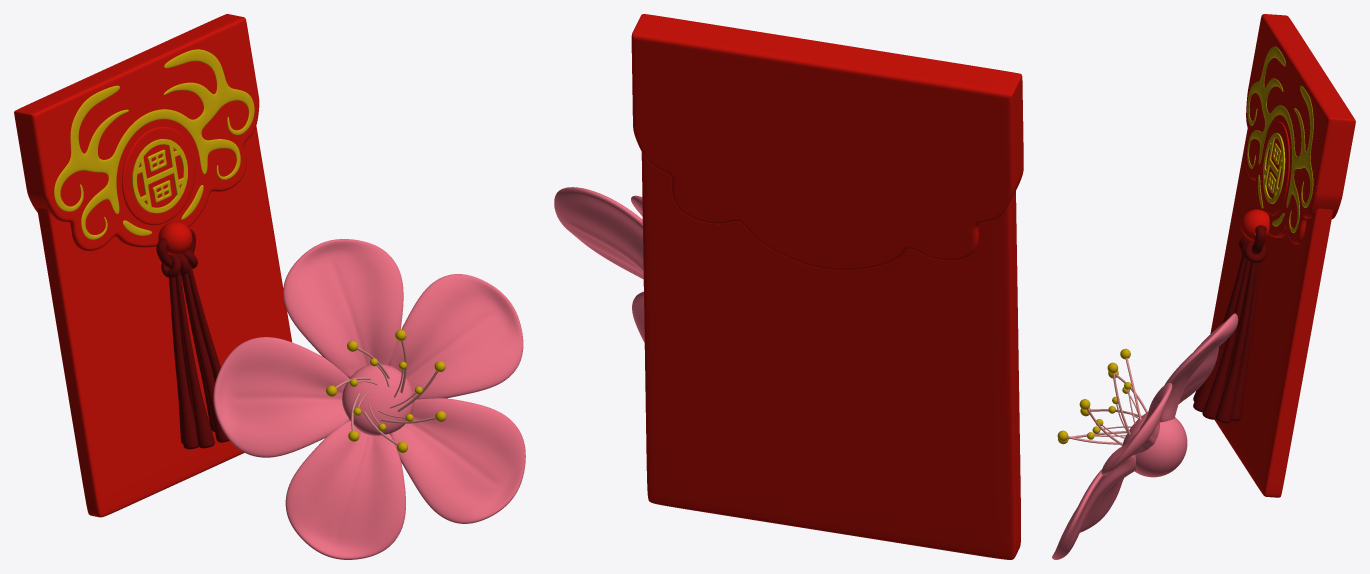
The model's file is lixi_phucloc.glb.
3 renders of one model, left to right at view 1: azimuth 30°, elevation 25°; view 2: azimuth 150°, elevation 25°; view 3: azimuth 270°, elevation 25°, orthographic. The views are drawn at different scales.
Visible parts, largest first — view 1: Red Envelope.071, Red Envelope.072, Cherry Blossoms.006, Cherry Blossoms.007, Cherry Blossoms.001, Cherry Blossoms.005, Cherry Blossoms.004, Red Envelope.073, Red Envelope.078, Red Envelope.075, Cherry Blossoms.008, Red Envelope.074 (+2 smaller); view 2: Red Envelope.071, Red Envelope.072, Cherry Blossoms.004; view 3: Red Envelope.071, Red Envelope.072, Red Envelope.078, Red Envelope.073, Cherry Blossoms.008, Cherry Blossoms.005, Cherry Blossoms.001, Cherry Blossoms.004, Red Envelope.075, Red Envelope.074, Cherry Blossoms.002, Cherry Blossoms.007 (+2 smaller).
Boxes of the visible parts, x1,y1,x2,y2 form: Red Envelope.071: [37, 126, 291, 517]; Red Envelope.072: [14, 14, 259, 250]; Cherry Blossoms.006: [285, 420, 405, 559]; Cherry Blossoms.007: [213, 337, 349, 457]; Cherry Blossoms.001: [283, 239, 403, 378]; Cherry Blossoms.005: [390, 398, 525, 523]; Cherry Blossoms.004: [389, 274, 523, 399]; Red Envelope.073: [54, 49, 254, 239]; Red Envelope.078: [161, 250, 229, 449]; Red Envelope.075: [122, 126, 195, 224]; Cherry Blossoms.008: [342, 364, 414, 435]; Red Envelope.074: [132, 139, 187, 213]; Red Envelope.071: [641, 152, 1020, 559]; Red Envelope.072: [631, 14, 1023, 270]; Cherry Blossoms.004: [554, 187, 643, 279]; Red Envelope.071: [1210, 129, 1332, 497]; Red Envelope.072: [1245, 14, 1355, 244]; Red Envelope.078: [1193, 236, 1266, 423]; Red Envelope.073: [1247, 46, 1313, 232]; Cherry Blossoms.008: [1122, 412, 1187, 477]; Cherry Blossoms.005: [1052, 455, 1135, 559]; Cherry Blossoms.001: [1160, 313, 1238, 422]; Cherry Blossoms.004: [1101, 383, 1172, 475]; Red Envelope.075: [1261, 121, 1289, 215]; Red Envelope.074: [1263, 133, 1285, 203]; Cherry Blossoms.002: [1068, 358, 1147, 445]; Cherry Blossoms.007: [1179, 347, 1218, 403].
Size of the model in its own units: 6.88 by 6.89 by 4.53.
